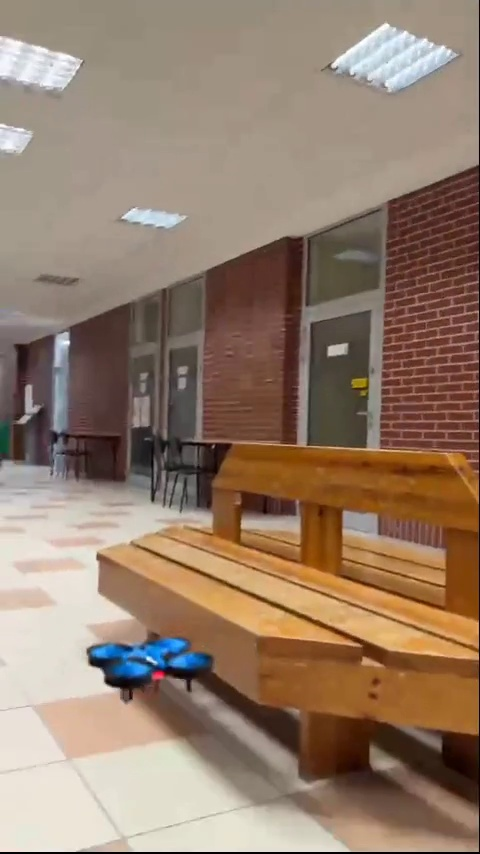drone: (90, 638, 218, 697)
